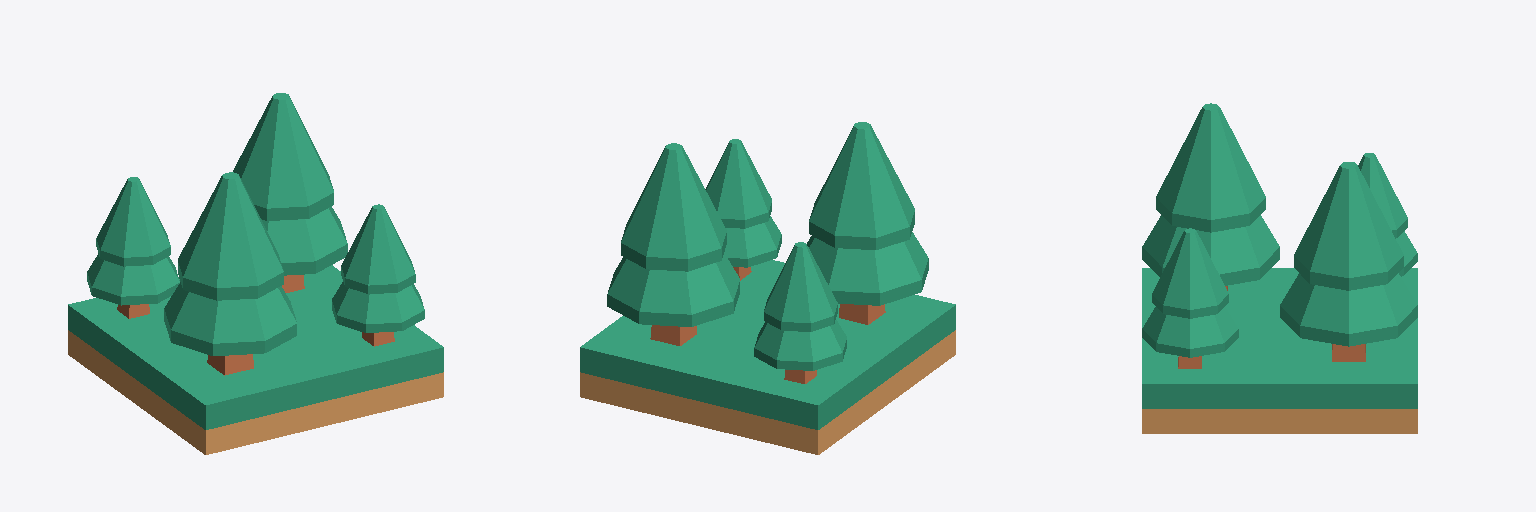
File: tile_treeQuad.obj
3 views of the same model, side by side, from view 1: azimuth 30°, elevation 25°; view 2: azimuth 150°, elevation 25°; view 3: azimuth 270°, elevation 25° (orthographic).
Visible parts, largest first — view 1: tree, tile_treeQuad; view 2: tree, tile_treeQuad; view 3: tree, tile_treeQuad.
Part boxes in pixels (x1,y1,x2,y2): tree: (87, 93, 424, 375); tile_treeQuad: (68, 265, 443, 454); tree: (607, 122, 928, 383); tile_treeQuad: (580, 260, 955, 454); tree: (1142, 103, 1417, 368); tile_treeQuad: (1142, 268, 1417, 433).
Bounding box in the file's own units: 1 × 0.96 × 1.